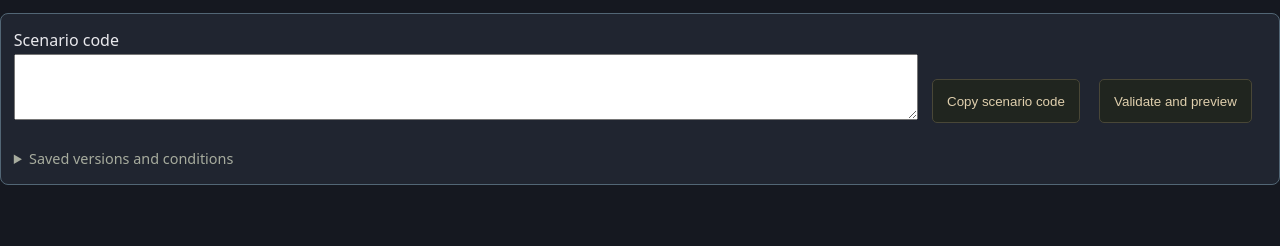
Scenario: does not execute pasted content or show a result for invalid data
Type "<script>globalThis.executed=true</script>" into the text box labelled "Scenario code" at (466, 87), box [14,54,918,120]
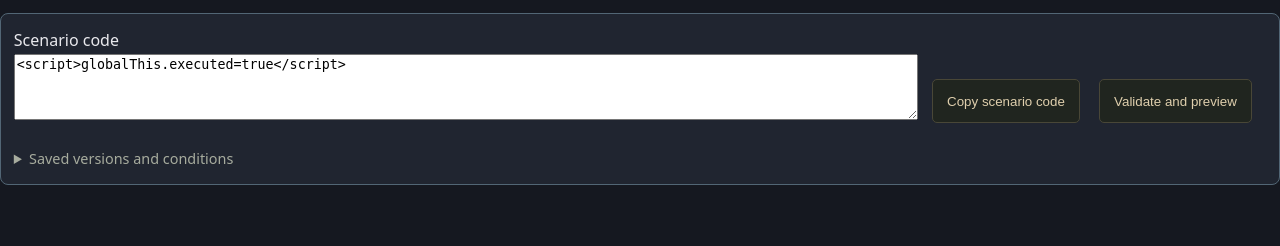
Click the button "Validate and preview" at (1176, 101), box [1099,79,1252,123]
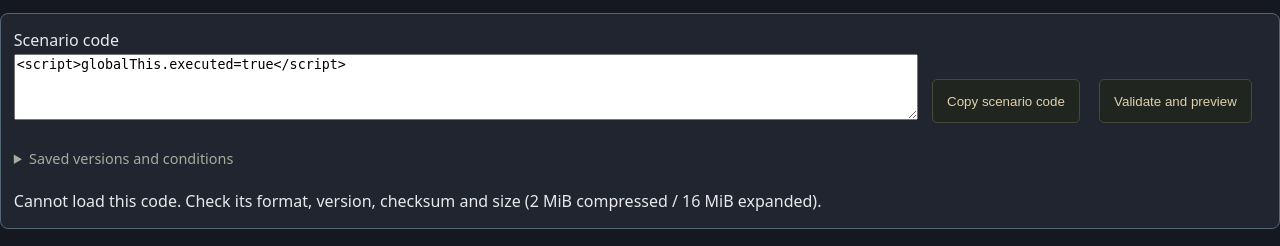
Result: the message shows "Cannot load" at [14,190,821,212]
